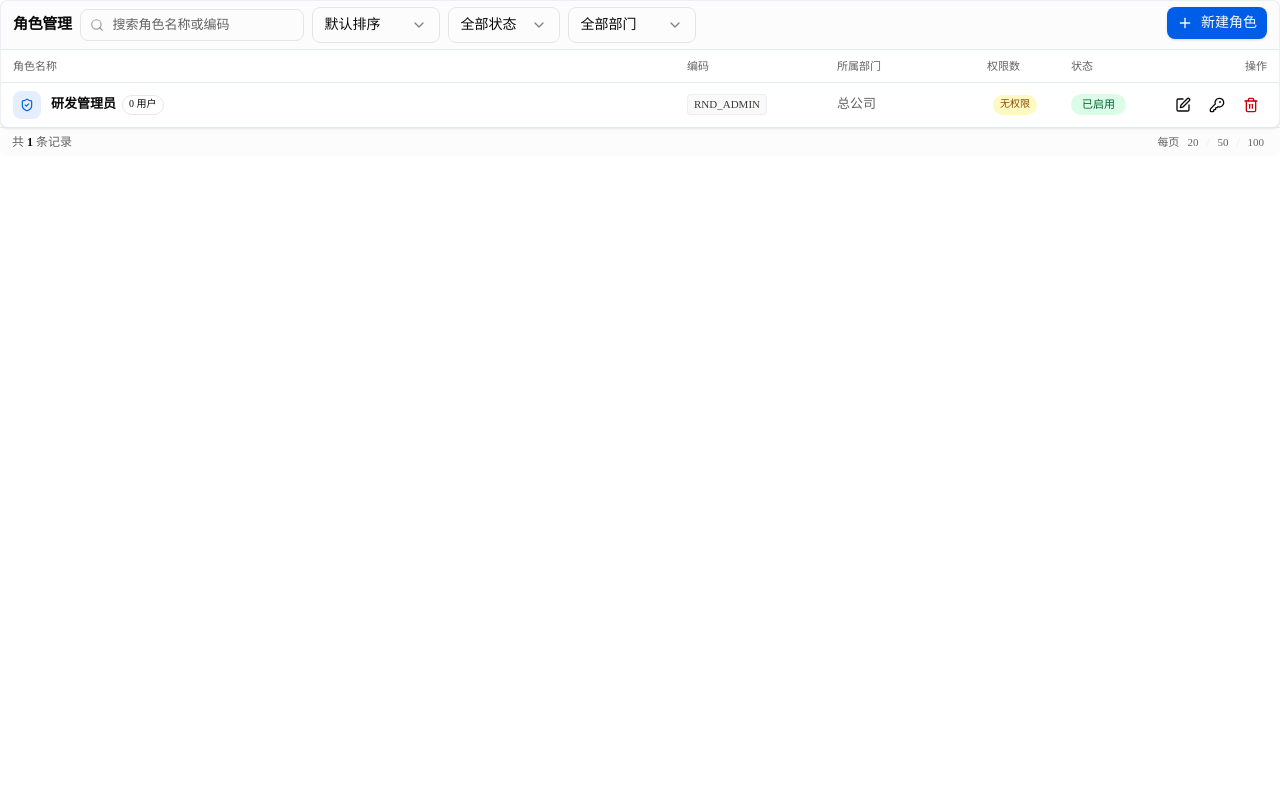
Test case: U-G03 对话框 Label 关联 › roles 新建/编辑对话框：getByLabelText 可定位名称/编码/部门
Click the button "新建角色".
click(1217, 23)  # box [1167,7,1267,39]
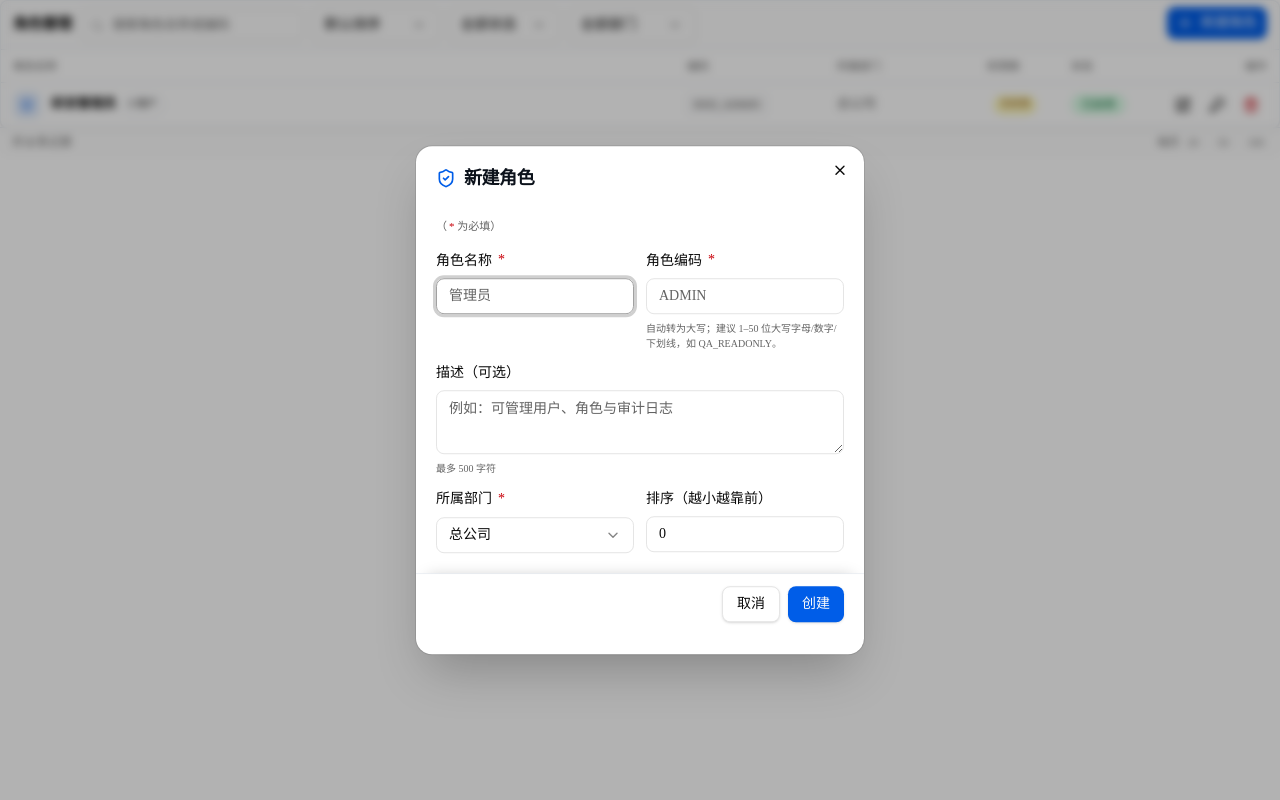
Expected: the field labelled "角色名称" is shown, [436,279,634,315]
Expected: the field labelled "角色编码" is shown, [646,279,844,315]
Expected: the dropdown named "所属部门" is shown, [436,517,634,553]
Click the button "取消".
click(751, 604)  # box [722,586,780,622]
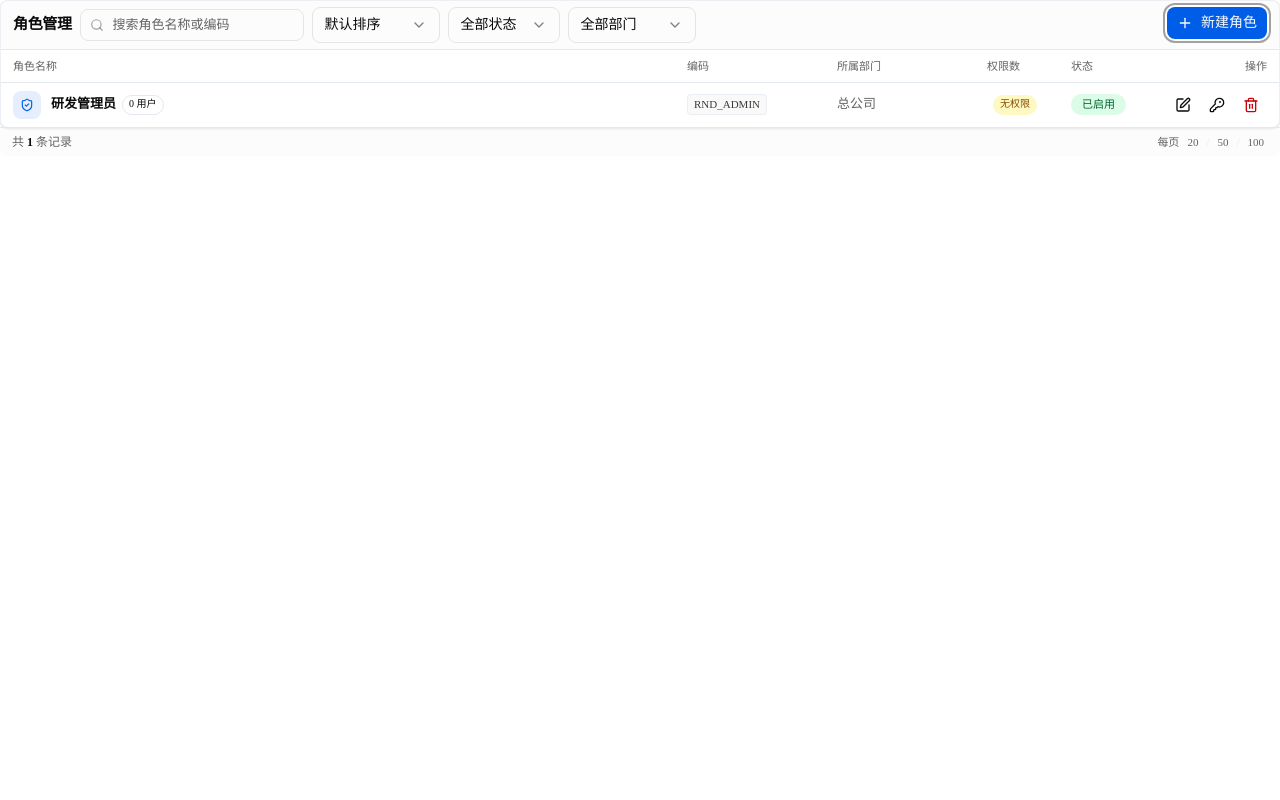
Click the button named "编辑角色 研发管理员".
click(1183, 104)  # box [1167,88,1199,120]
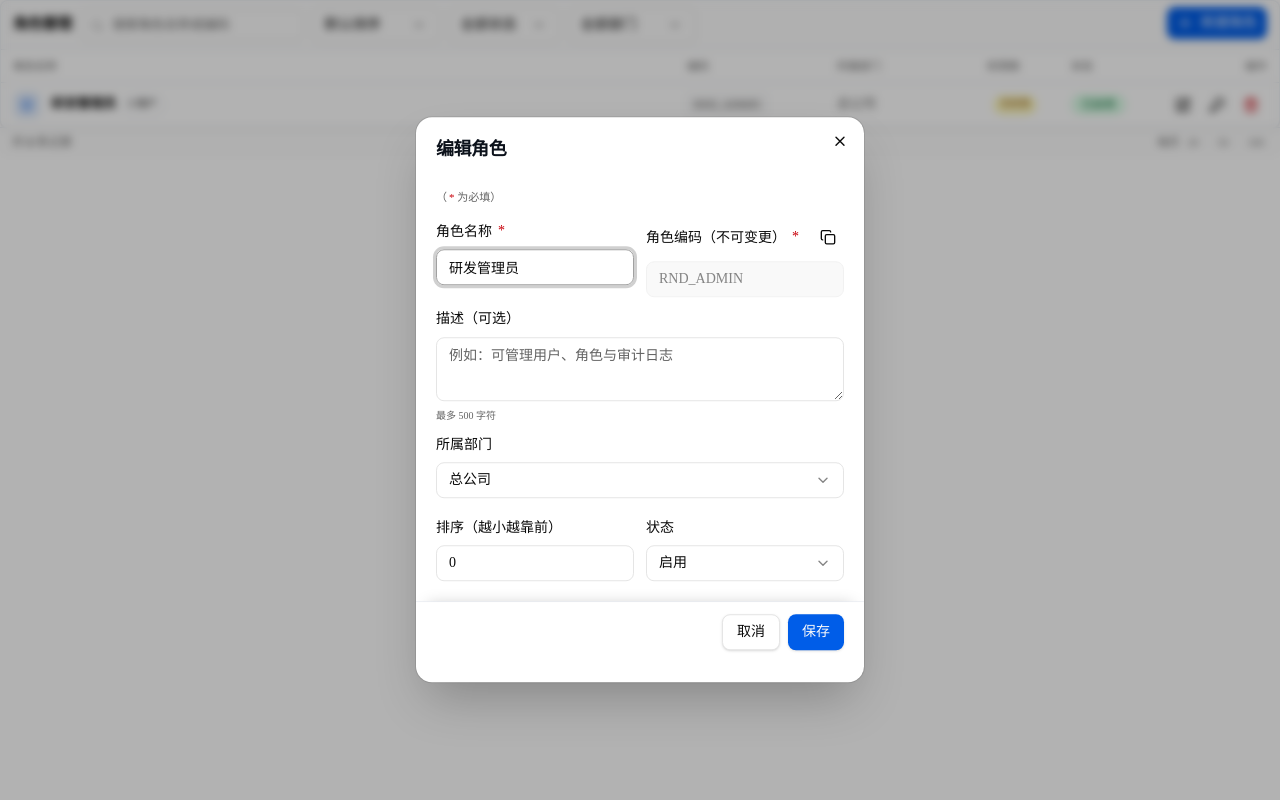
Expected: the field labelled "角色名称" is shown, [436,250,634,286]
Expected: the dropdown named "所属部门" is shown, [436,462,844,498]
